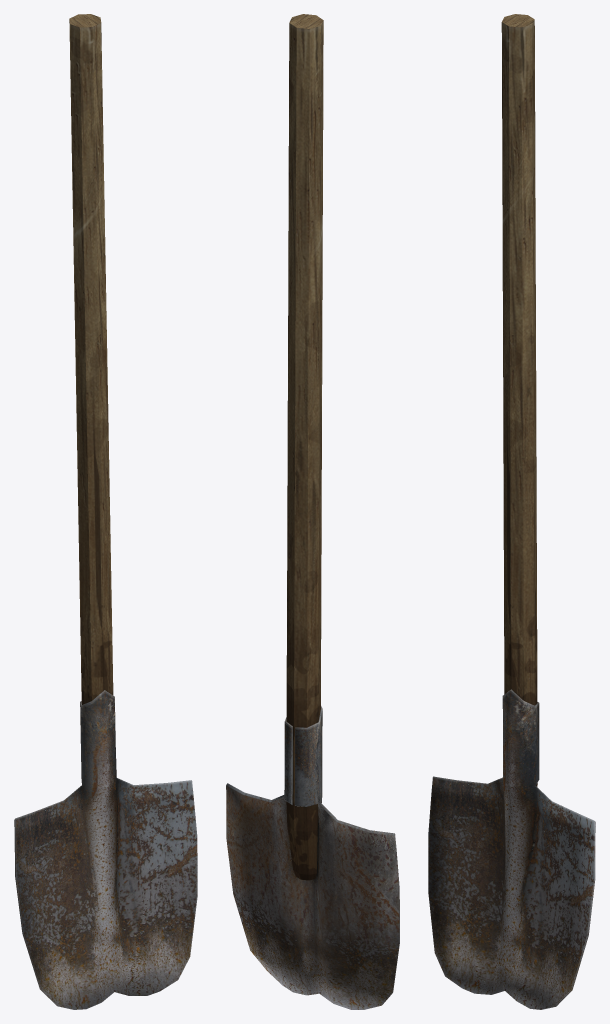
File: B6_shovel_00.FBX
The picture shows the model from 3 angles, left to right: view 1: azimuth 30°, elevation 25°; view 2: azimuth 150°, elevation 25°; view 3: azimuth 330°, elevation 25°; orthographic projection. The views are drawn at different scales.
Parts seen in each view (by area): view 1: B6_shovel; view 2: B6_shovel; view 3: B6_shovel.
Part boxes in pixels (x1,y1,x2,y2): B6_shovel: (14,14,197,1009); B6_shovel: (226,14,399,1009); B6_shovel: (428,14,595,1009).
Bounding box in the file's own units: 13.27 × 70.21 × 4.8.
Materials: 1 (1 with a texture image).
